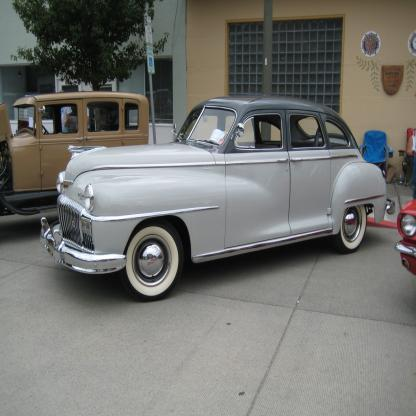car: (40, 97, 396, 300), (0, 91, 149, 216)
